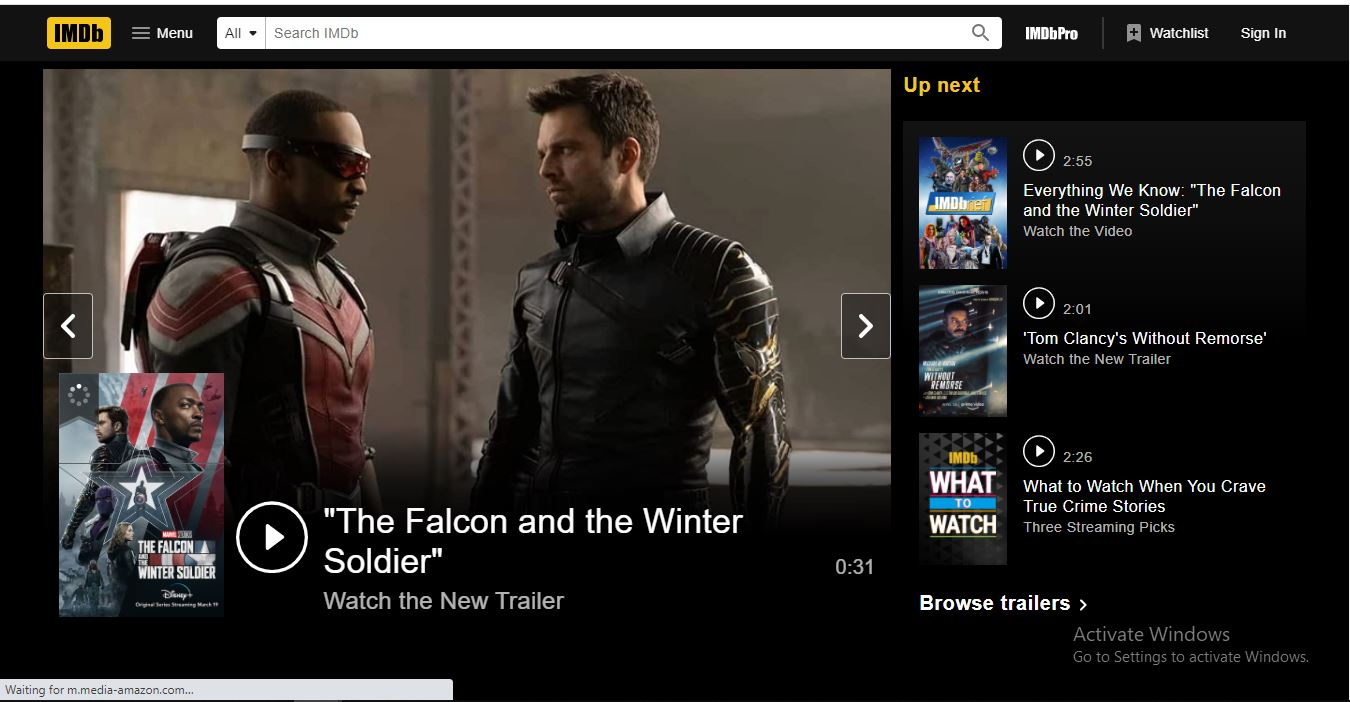Button: (232, 492, 312, 571), (44, 294, 92, 357), (953, 11, 1001, 49), (1018, 136, 1057, 172)
Image: (44, 72, 887, 518), (60, 375, 230, 614), (912, 288, 1008, 424), (915, 140, 1005, 275), (916, 432, 1005, 567), (33, 11, 121, 60)
Menu Bar: (129, 10, 267, 52)
Nav Bar: (1014, 7, 1293, 59)
Side Bar: (907, 120, 1302, 598)
Text Field: (264, 16, 940, 43)
